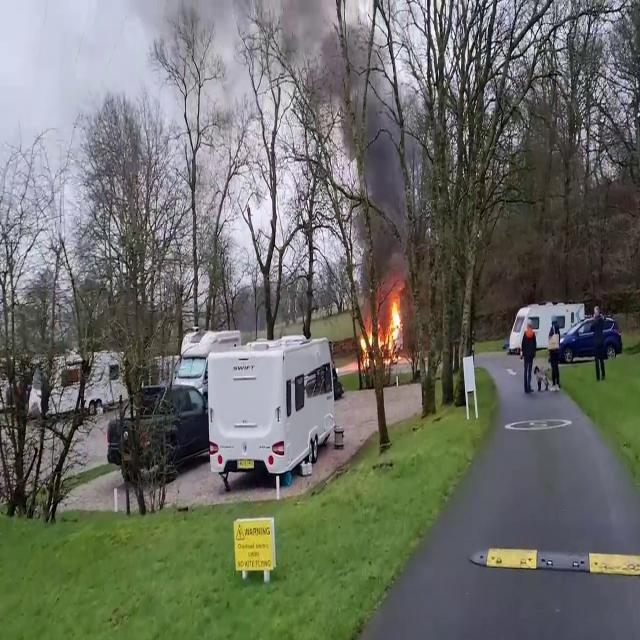Fire: (360, 288, 407, 368)
Smoke: (304, 0, 410, 291)
